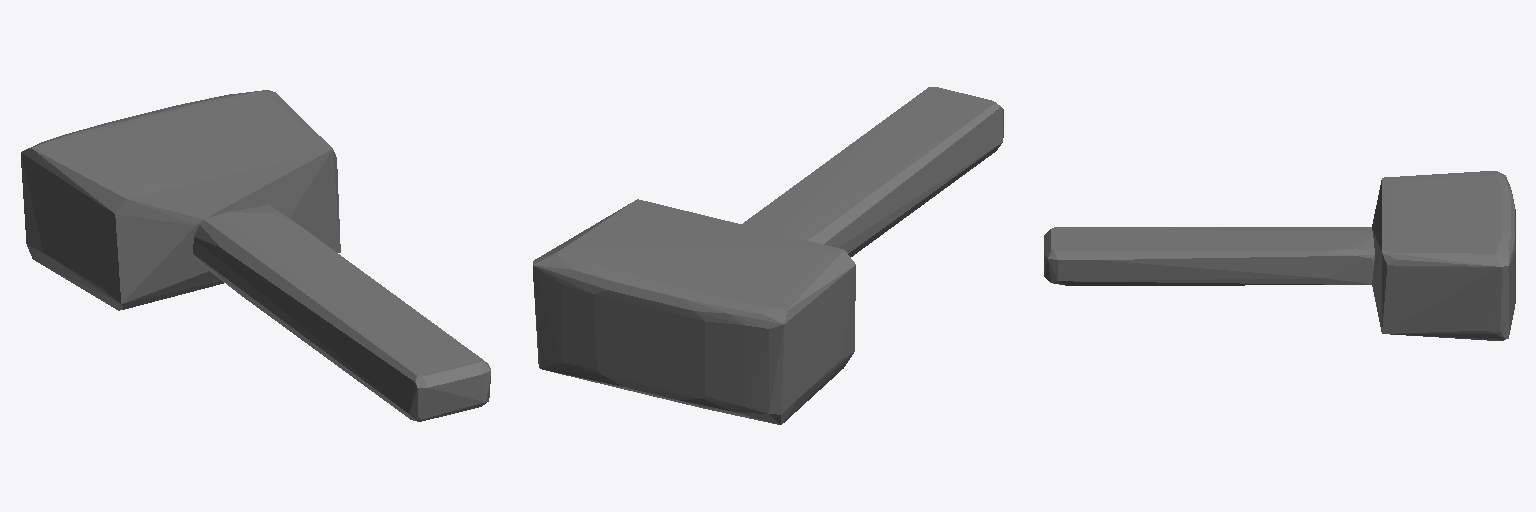
The robot description file, URDF, robot "hammer_013":
<?xml version="1.0" ?>
<robot name="hammer_013">
  <material name="color">
    <color rgba=".5 .5 .5 1"/>
  </material>

  <link name="base_link">
    <contact>
      <lateral_friction value="1.0"/>
      <rolling_friction value="0.001"/>
      <spinning_friction value="0.001"/>
      <inertia_scaling value="1.0"/>
    </contact>
    <inertial>
      <origin rpy="0 0 0" xyz="-1.28897e-05 0.0292359 -4.7962e-06"/>
       <mass value="0.1"/>
       <inertia ixx="1" ixy="0" ixz="0" iyy="1" iyz="0" izz="1"/>
    </inertial>

    <visual>
      <origin rpy="0 0 0" xyz="0 0 0"/>
      <geometry>
        <mesh filename="hammer_013_vhacd_0_of_2.obj" scale="1 1 1"/>
      </geometry>
      <material name="color"/>
    </visual>
    <visual>
      <origin rpy="0 0 0" xyz="0 0 0"/>
      <geometry>
        <mesh filename="hammer_013_vhacd_1_of_2.obj" scale="1 1 1"/>
      </geometry>
      <material name="color"/>
    </visual>

    <collision>
      <origin rpy="0 0 0" xyz="0 0 0"/>
      <geometry>
        <mesh filename="hammer_013_vhacd_0_of_2.obj" scale="1 1 1"/>
      </geometry>
    </collision>
    <collision>
      <origin rpy="0 0 0" xyz="0 0 0"/>
      <geometry>
        <mesh filename="hammer_013_vhacd_1_of_2.obj" scale="1 1 1"/>
      </geometry>
    </collision>

  </link>
</robot>

--- Facts derived from the render (not from the file) ---
3 views of the same robot in one strip: view 1: azimuth 30°, elevation 25°; view 2: azimuth 150°, elevation 25°; view 3: azimuth 270°, elevation 25° (orthographic).
Model hammer_013 with 1 links and 0 joints (none), rooted at base_link, posed all joints at 0.
Visible links, largest first — view 1: base_link; view 2: base_link; view 3: base_link.
Boxes of the visible links, left/top/right/bottom form: base_link: left=21, top=90, right=490, bottom=421; base_link: left=533, top=87, right=1003, bottom=424; base_link: left=1044, top=171, right=1515, bottom=340.
Size in the robot's own frame: 0.0985 by 0.2137 by 0.0427 metres.
Meshes: 2 distinct files referenced, 2 mesh visuals loaded (2 OBJ).